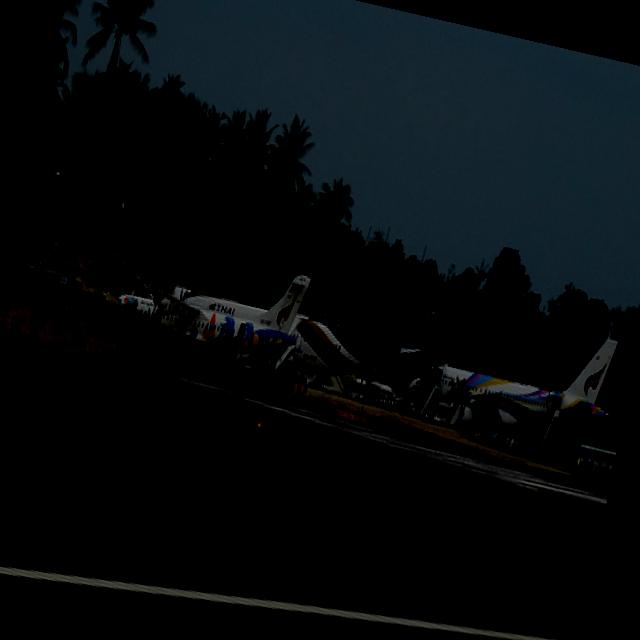Vehicle: (574, 442, 618, 474)
